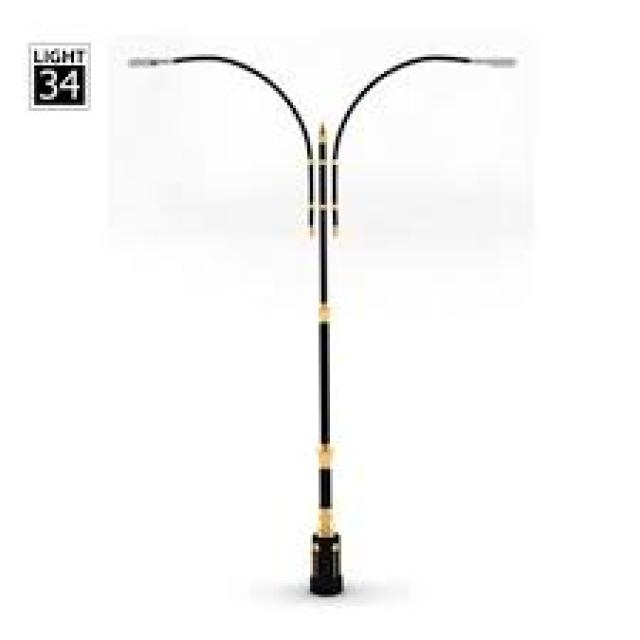Street Light: (125, 42, 518, 594)
